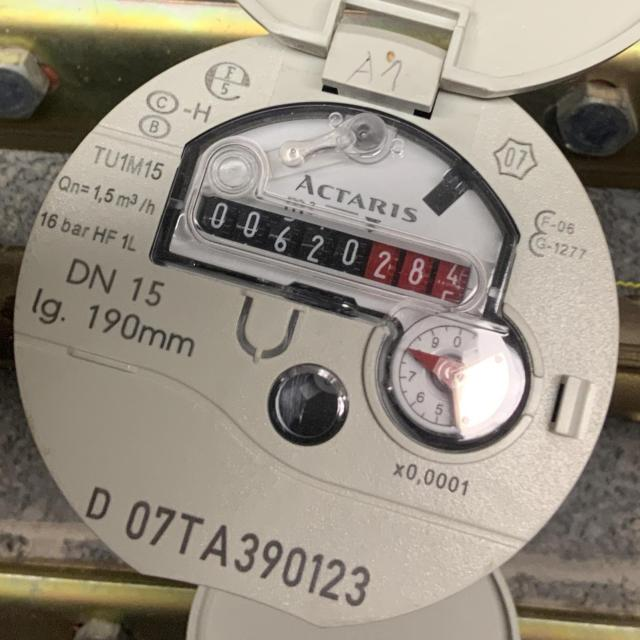gaz_meter: (16, 20, 619, 604)
indication: (189, 190, 472, 304)
